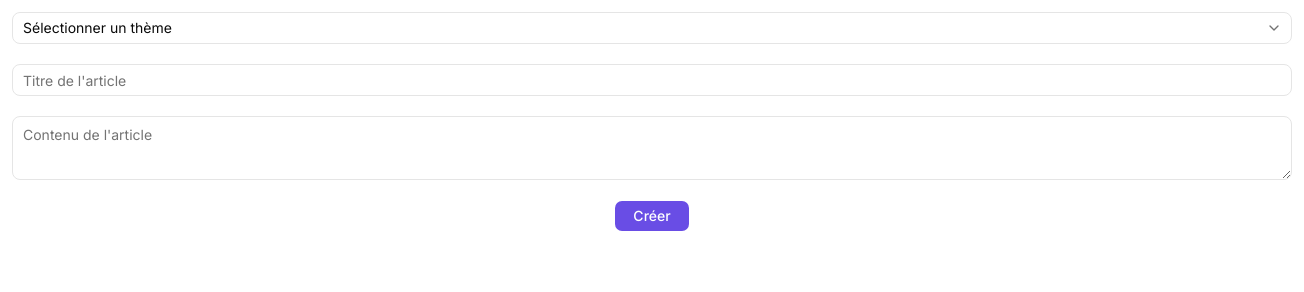
PostForm › shows the error returned by the action and keeps the fields
Select "Python" in the dropdown named "Thème": (652, 28) [12,12,1292,44]
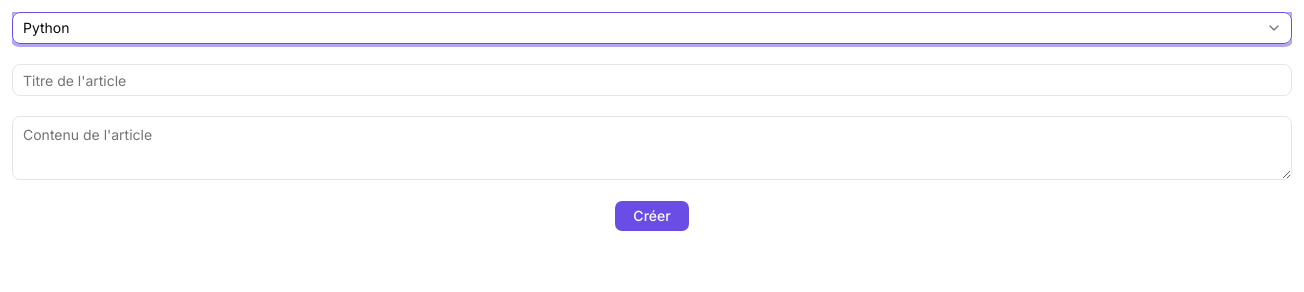
In the field labelled "Titre de l'article": (652, 80) [12,64,1292,96], type "Mon article"
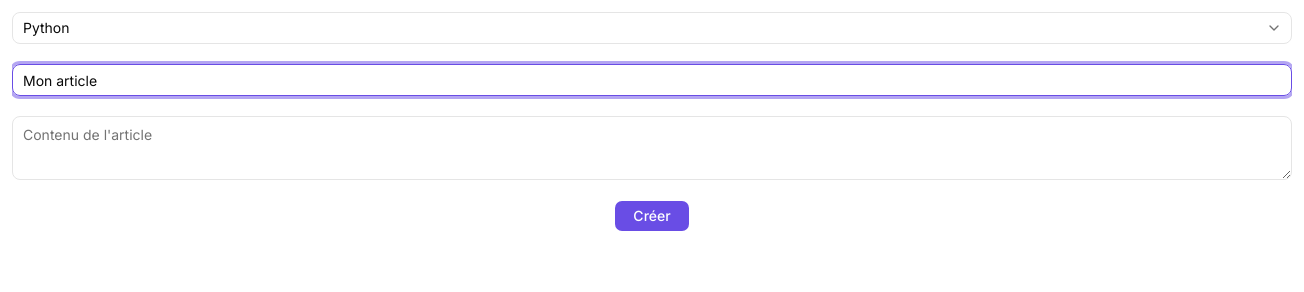
In the text box labelled "Contenu de l'article": (652, 148) [12,116,1292,180], type "Un contenu valide"
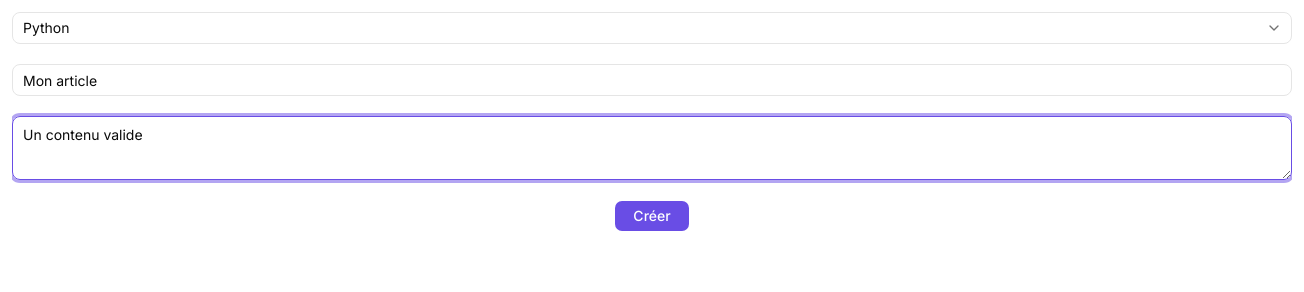
Click the button "Créer": click(652, 216) [614,200,690,232]
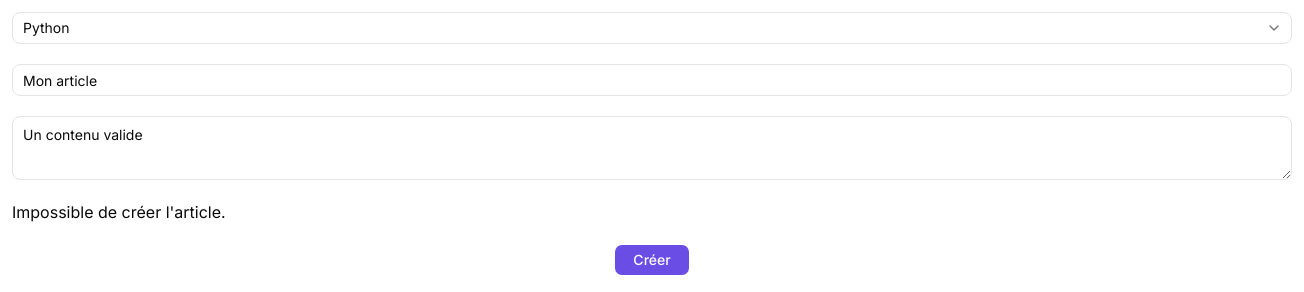
Check: the message reads "Impossible de créer l'article.", box [12,202,226,222]
